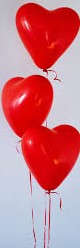Balloon: (15, 3, 80, 69), (21, 125, 80, 191), (1, 75, 52, 135)
